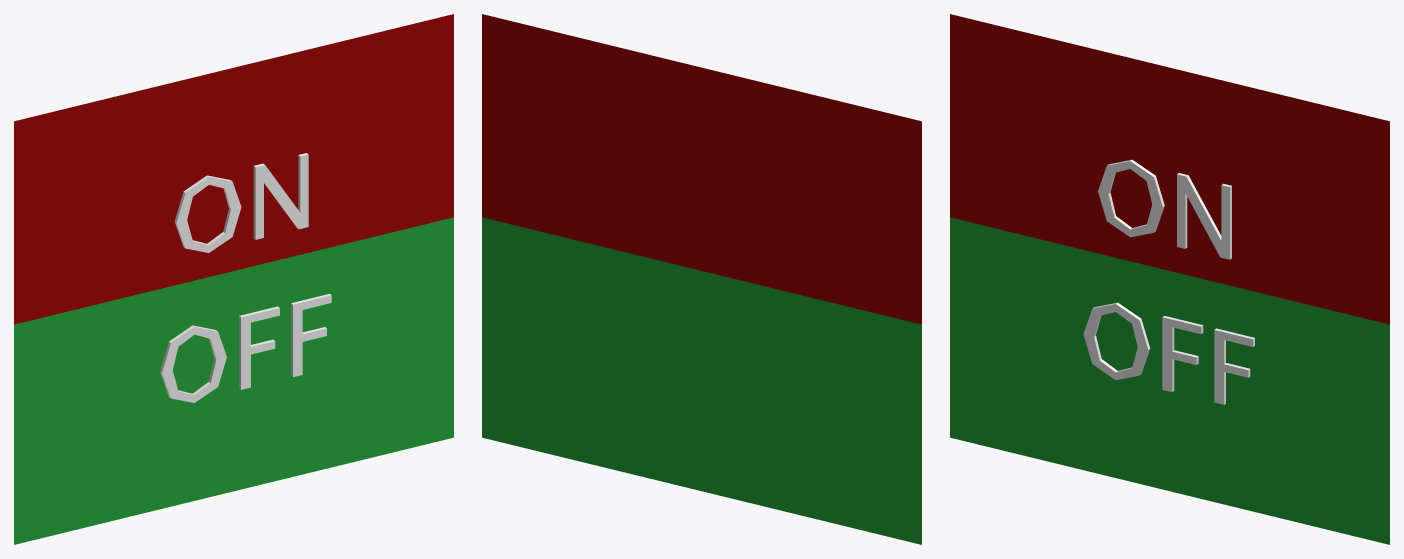
The model's file is acb_inner_btn3.fbx.
3 views of the same model, side by side, from view 1: azimuth 30°, elevation 25°; view 2: azimuth 150°, elevation 25°; view 3: azimuth 330°, elevation 25° (orthographic).
Visible parts, largest first — view 1: acb_inner_btn2; view 2: acb_inner_btn2; view 3: acb_inner_btn2.
Part boxes in pixels (box(x1,y1,x2,y2)): acb_inner_btn2: box(14, 14, 453, 544); acb_inner_btn2: box(482, 14, 921, 544); acb_inner_btn2: box(950, 14, 1389, 544).
Size of the model in its own units: 0.0356 by 0.0328 by 0.00103.
2 materials, 1 textured.
